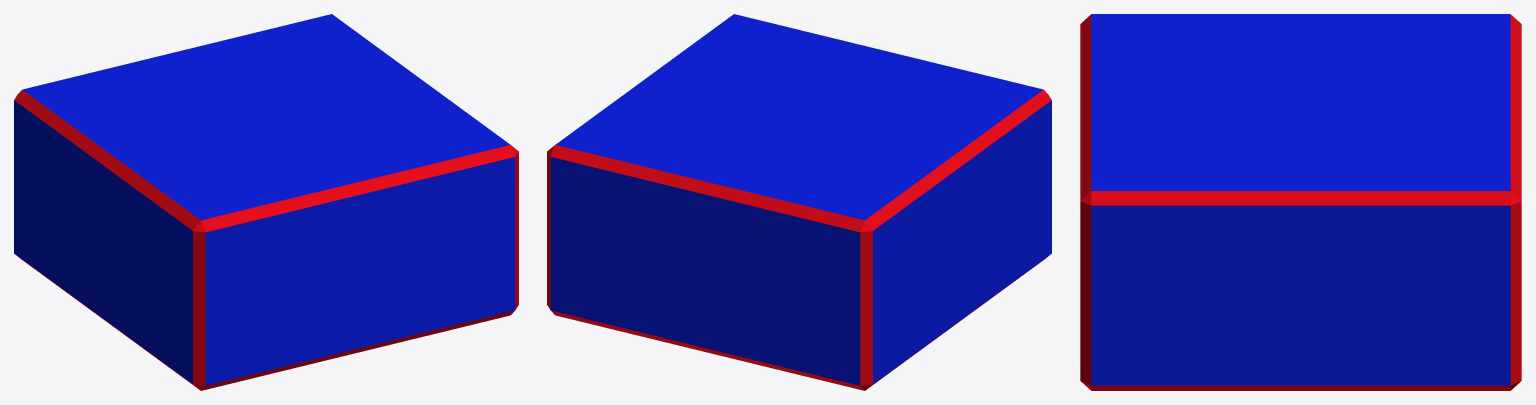
File: L14_2x2_Platform.fbx
The picture shows the model from 3 angles, left to right: view 1: azimuth 30°, elevation 25°; view 2: azimuth 150°, elevation 25°; view 3: azimuth 270°, elevation 25°; orthographic projection. The views are drawn at different scales.
Visible parts, largest first — view 1: L14_2x2_Platform; view 2: L14_2x2_Platform; view 3: L14_2x2_Platform.
Boxes of the visible parts, x1=… form: L14_2x2_Platform: x1=14, y1=14, x2=518, y2=390; L14_2x2_Platform: x1=547, y1=14, x2=1051, y2=390; L14_2x2_Platform: x1=1080, y1=14, x2=1521, y2=390.
Bounding box in the file's own units: 200 × 100 × 200.
